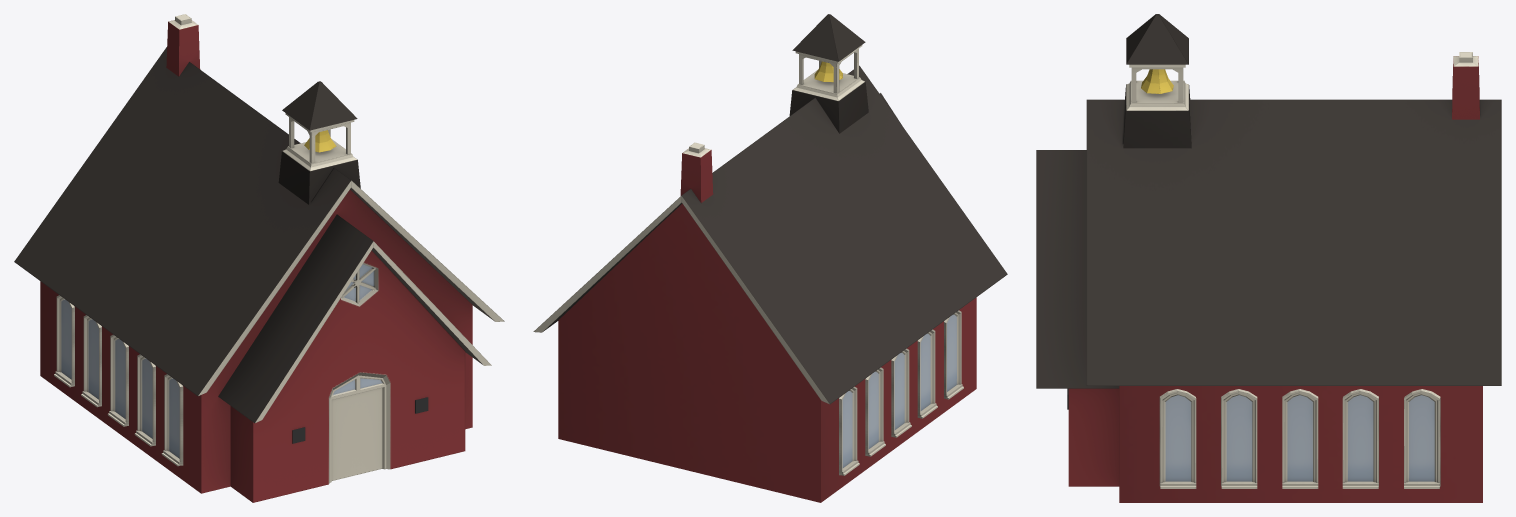
Rendered from schoolhouse.glb.
The picture shows the model from 3 angles, left to right: view 1: azimuth 30°, elevation 25°; view 2: azimuth 150°, elevation 25°; view 3: azimuth 270°, elevation 25°; orthographic projection. The views are drawn at different scales.
Parts seen in each view (by area): view 1: SchoolHouse_mesh; view 2: SchoolHouse_mesh; view 3: SchoolHouse_mesh.
Boxes of the visible parts, x1=… form: SchoolHouse_mesh: x1=14, y1=14, x2=504, y2=502; SchoolHouse_mesh: x1=533, y1=14, x2=1007, y2=502; SchoolHouse_mesh: x1=1036, y1=14, x2=1501, y2=502.
Bounding box in the file's own units: 13.18 × 15.02 × 15.31.
1 material, 1 textured.
